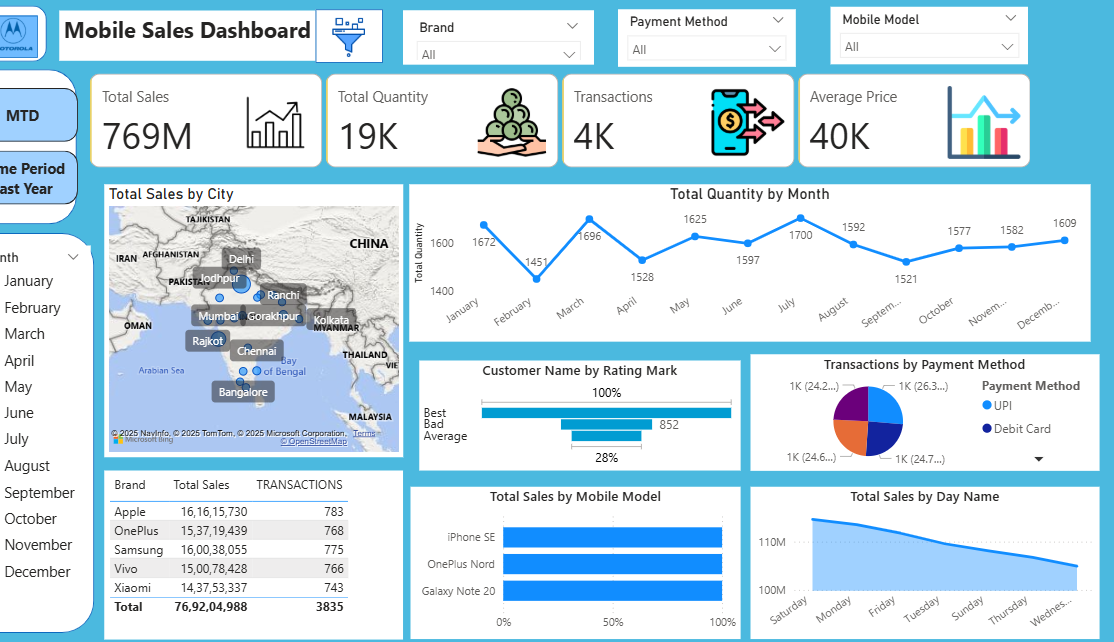

The dashboard page shown, as its layout file describes it:
{"tool":"powerbi","page":{"name":"Dashboard","canvas":[1280,720],"ordinal":0},"visuals":[{"type":"shape","box":[23.3,13.7,74.1,61.7],"z":0},{"type":"shape","box":[31.6,24.7,56.3,46.7],"z":1000},{"type":"image","box":[32.9,19.2,54.9,52.1],"z":2000},{"type":"textbox","box":[111.1,19.2,292.3,54.9],"z":3000},{"type":"shape","box":[8.2,83.7,122.1,170.2],"z":4000},{"type":"shape","box":[8.2,263.5,141.3,439.1],"z":5000},{"type":"slicer","fields":{"Values":["Custom Caluclator.final date.Variation.Date Hierarchy.Month"]},"box":[13.7,277.2,131.7,384.2],"z":6000},{"type":"cardVisual","fields":{"Data":["Mobile data.Total Sales","Mobile data.Total Quantity","Mobile data.TRANSACTIONS","Mobile data.Average Price"]},"box":[140,83.7,1044.3,113.9],"z":7000},{"type":"slicer","fields":{"Values":["Mobile data.Brand"]},"box":[488.5,19.2,209.9,59],"z":8000},{"type":"slicer","fields":{"Values":["Mobile data.Payment Method"]},"box":[724.5,17.8,194.9,63.1],"z":9000},{"type":"slicer","fields":{"Values":["Mobile data.Mobile Model"]},"box":[957.8,15.1,216.8,63.1],"z":10000},{"type":"shape","box":[392.5,17.8,74.1,59],"z":11000},{"type":"image","box":[363.6,22,130.4,53.5],"z":12000},{"type":"map","fields":{"Category":["Mobile data.City"],"Size":["Mobile data.Total Sales"]},"box":[160.5,209.9,328,299.1],"z":13000},{"type":"lineChart","fields":{"Category":["Custom Caluclator.final date.Variation.Date Hierarchy.Month"],"Y":["Mobile data.Total Quantity"]},"box":[495.4,209.9,747.9,172.9],"z":14000},{"type":"funnel","title":"Customer Name by Rating Mark","fields":{"Category":["Mobile data.Rating Mark"],"Y":["CountNonNull(Mobile data.Customer Name)"]},"box":[506.3,403.4,352.7,120.8],"z":15000},{"type":"pieChart","title":"Transactions by Payment Method","fields":{"Y":["Mobile data.TRANSACTIONS"],"Category":["Mobile data.Payment Method"]},"box":[870,396.6,382.8,127.6],"z":16000},{"type":"hundredPercentStackedBarChart","fields":{"Category":["Mobile data.Mobile Model"],"Y":["Mobile data.Total Sales"]},"box":[496.7,542,362.3,167.4],"z":17000},{"type":"areaChart","fields":{"Y":["Mobile data.Total Sales"],"Category":["Custom Caluclator.Day Name"]},"box":[870,542,382.8,167.4],"z":18000},{"type":"tableEx","fields":{"Values":["Mobile data.Brand","Mobile data.Total Sales","Mobile data.TRANSACTIONS"]},"box":[160.5,524.2,328,185.2],"z":19000},{"type":"actionButton","box":[0,0,100,40],"z":20000},{"type":"pageNavigator","box":[9.6,104.3,122.1,129],"z":22000}]}

Visuals, with their boxes in screenshot pixels (x1, y1, x2, y2), scaled from the page's 1280x720 canvas onto the 1114x642 screenshot:
shape: rect(20, 12, 85, 67)
shape: rect(28, 22, 77, 64)
image: rect(29, 17, 76, 64)
textbox: rect(97, 17, 351, 66)
shape: rect(7, 75, 113, 226)
shape: rect(7, 235, 130, 626)
slicer - Custom Caluclator.final date.Variation.Date Hierarchy.Month: rect(12, 247, 127, 590)
cardVisual - Mobile data.Total Sales x Mobile data.Total Quantity: rect(122, 75, 1031, 176)
slicer - Mobile data.Brand: rect(425, 17, 608, 70)
slicer - Mobile data.Payment Method: rect(631, 16, 800, 72)
slicer - Mobile data.Mobile Model: rect(834, 13, 1022, 70)
shape: rect(342, 16, 406, 68)
image: rect(316, 20, 430, 67)
map - Mobile data.City x Mobile data.Total Sales: rect(140, 187, 425, 454)
lineChart - Custom Caluclator.final date.Variation.Date Hierarchy.Month x Mobile data.Total Quantity: rect(431, 187, 1082, 341)
"Customer Name by Rating Mark" funnel: rect(441, 360, 748, 467)
"Transactions by Payment Method" pieChart: rect(757, 354, 1090, 467)
hundredPercentStackedBarChart - Mobile data.Mobile Model x Mobile data.Total Sales: rect(432, 483, 748, 633)
areaChart - Mobile data.Total Sales x Custom Caluclator.Day Name: rect(757, 483, 1090, 633)
tableEx - Mobile data.Brand x Mobile data.Total Sales: rect(140, 467, 425, 633)
actionButton: rect(0, 0, 87, 36)
pageNavigator: rect(8, 93, 115, 208)
